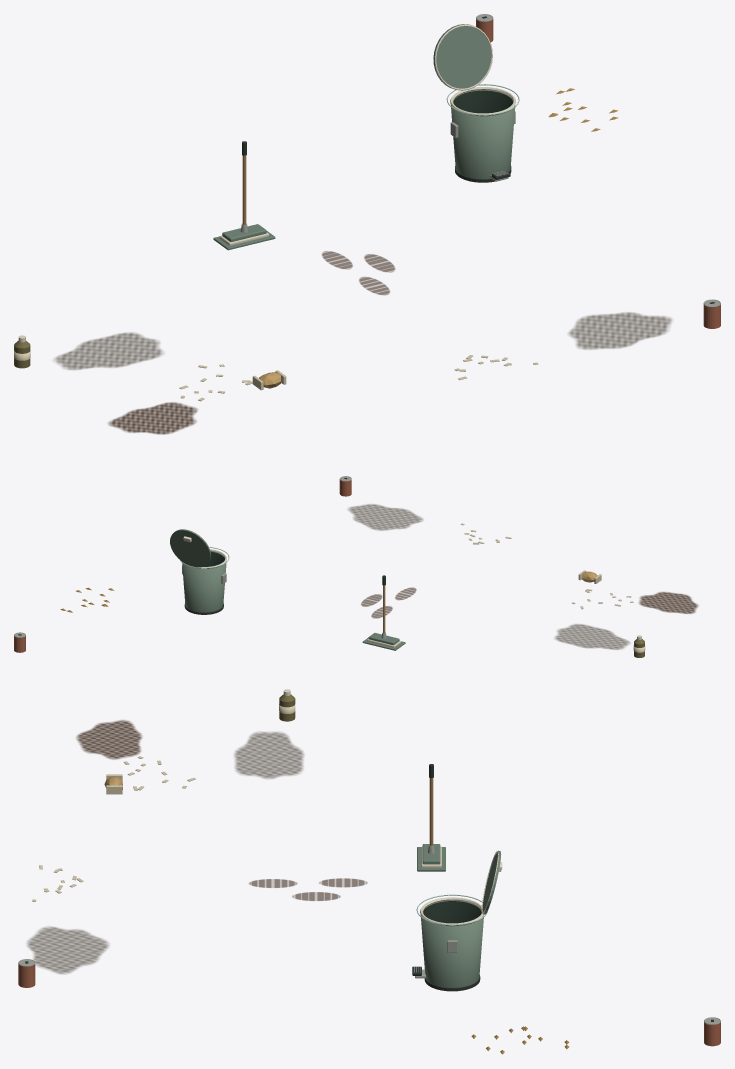
Rendered from tidy-cleaning-expanded.glb.
The picture shows the model from 3 angles, top to bottom: view 1: azimuth 30°, elevation 25°; view 2: azimuth 150°, elevation 25°; view 3: azimuth 270°, elevation 25°; orthographic projection. The views are drawn at different scales.
Parts seen in each view (by area): view 1: clean_bin_mesh, bin_lid_mesh, dust-3_mesh, dust-2_mesh, spill-0_mesh, spill-1_mesh; view 2: clean_bin_mesh, dust-3_mesh, dust-2_mesh, bin_lid_mesh, spill-0_mesh, spill-1_mesh; view 3: clean_bin_mesh, dust-3_mesh, dust-2_mesh, spill-0_mesh, spill-1_mesh, bin_lid_mesh.
Boxes of the visible parts, <box> form: clean_bin_mesh: <box>450,87,516,182</box>; bin_lid_mesh: <box>433,24,492,90</box>; dust-3_mesh: <box>568,312,671,349</box>; dust-2_mesh: <box>54,332,163,369</box>; spill-0_mesh: <box>108,402,197,434</box>; spill-1_mesh: <box>322,251,394,295</box>; clean_bin_mesh: <box>182,549,226,614</box>; dust-3_mesh: <box>348,504,422,530</box>; dust-2_mesh: <box>555,624,629,649</box>; bin_lid_mesh: <box>170,529,210,567</box>; spill-0_mesh: <box>639,592,698,613</box>; spill-1_mesh: <box>361,587,416,618</box>; clean_bin_mesh: <box>412,897,483,991</box>; dust-3_mesh: <box>27,926,108,974</box>; dust-2_mesh: <box>234,732,303,778</box>; spill-0_mesh: <box>76,720,141,759</box>; spill-1_mesh: <box>249,878,367,900</box>; bin_lid_mesh: <box>481,850,502,914</box>.
Size of the model in its own units: 3.14 by 0.5389 by 2.74.
Materials: 109 (96 with a texture image).
